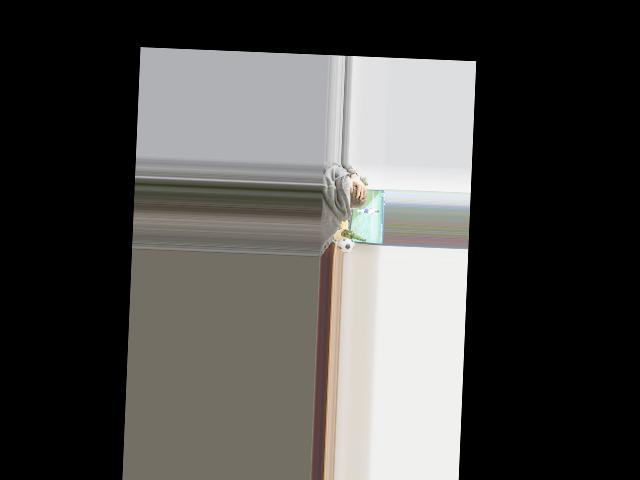beer: (336, 228, 366, 242)
